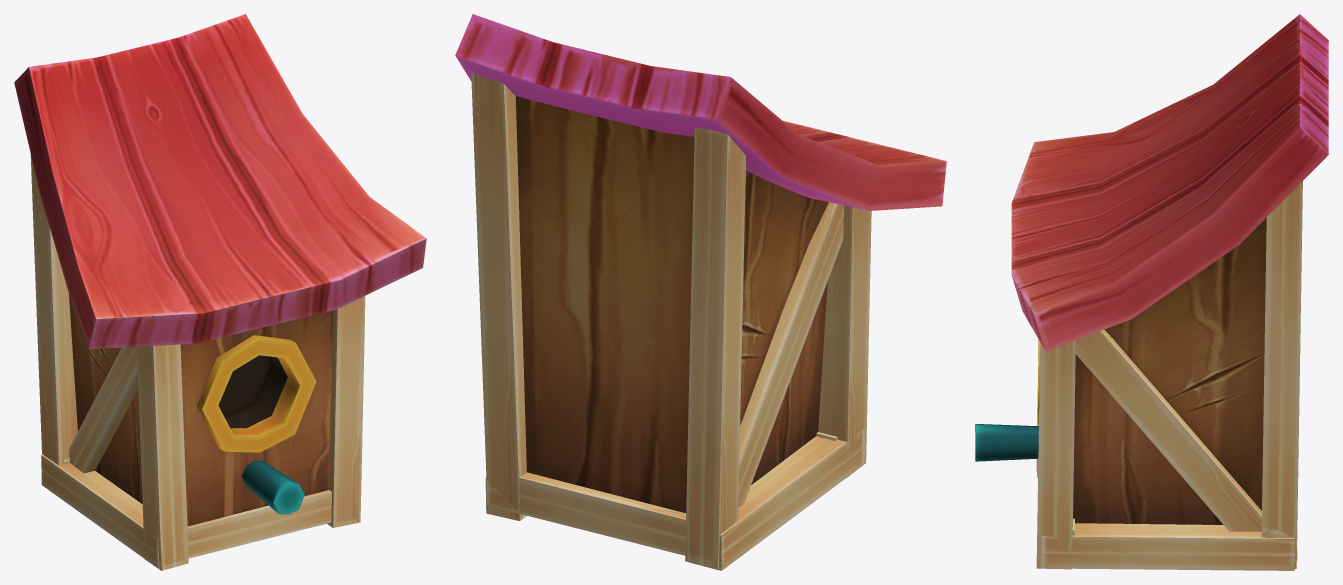
Rendered from SE_Birdhouse_01.fbx.
3 views of the same model, side by side, from view 1: azimuth 30°, elevation 25°; view 2: azimuth 150°, elevation 25°; view 3: azimuth 270°, elevation 25° (orthographic). The views are drawn at different scales.
Visible parts, largest first — view 1: SE_Birdhouse_01; view 2: SE_Birdhouse_01; view 3: SE_Birdhouse_01.
Boxes of the visible parts, x1=… form: SE_Birdhouse_01: x1=14, y1=14, x2=426, y2=570; SE_Birdhouse_01: x1=455, y1=14, x2=946, y2=570; SE_Birdhouse_01: x1=975, y1=14, x2=1328, y2=570.
Size of the model in its own units: 3.09 by 3.7 by 2.64.
